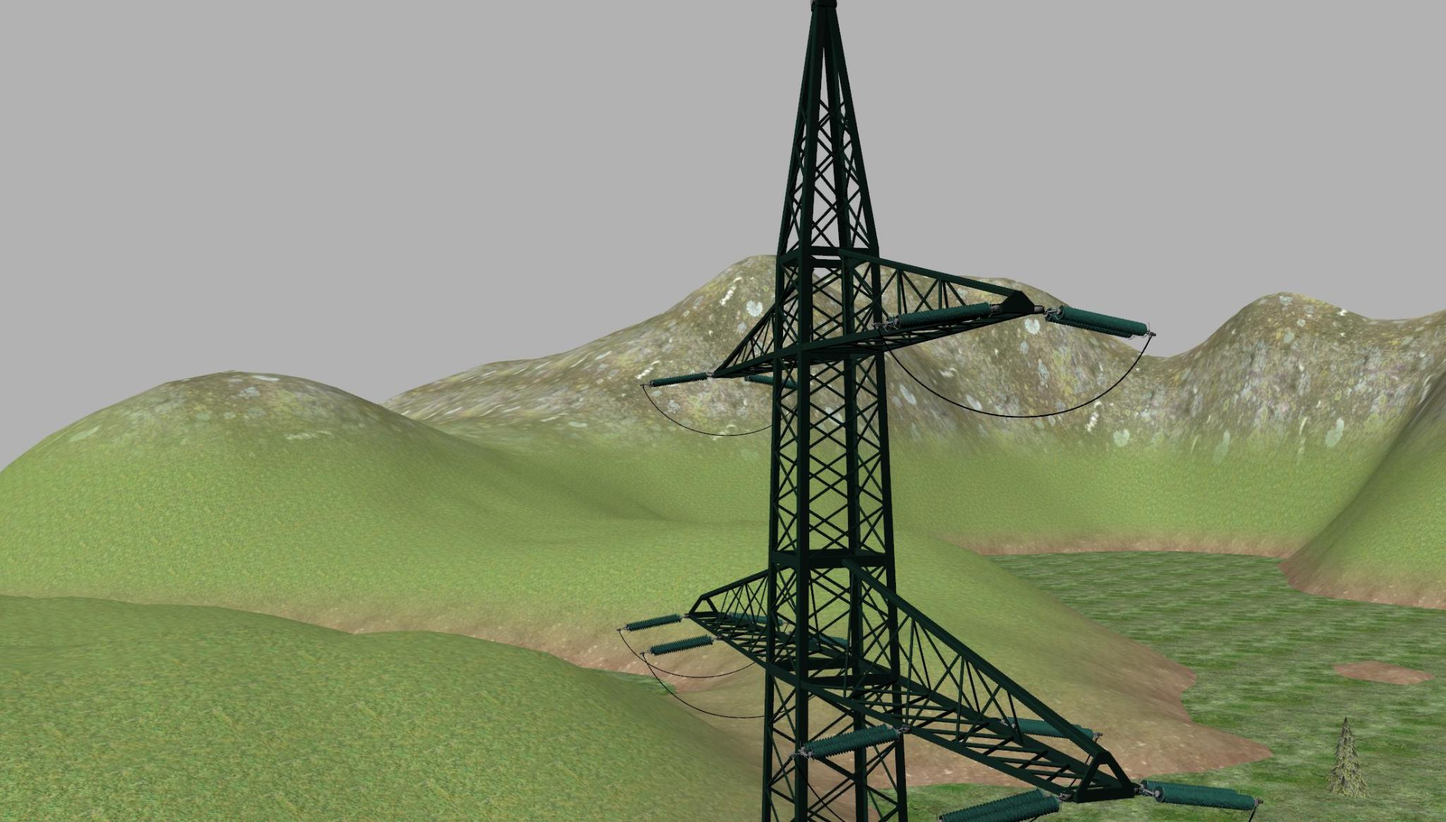tower: (685, 0, 1135, 822)
